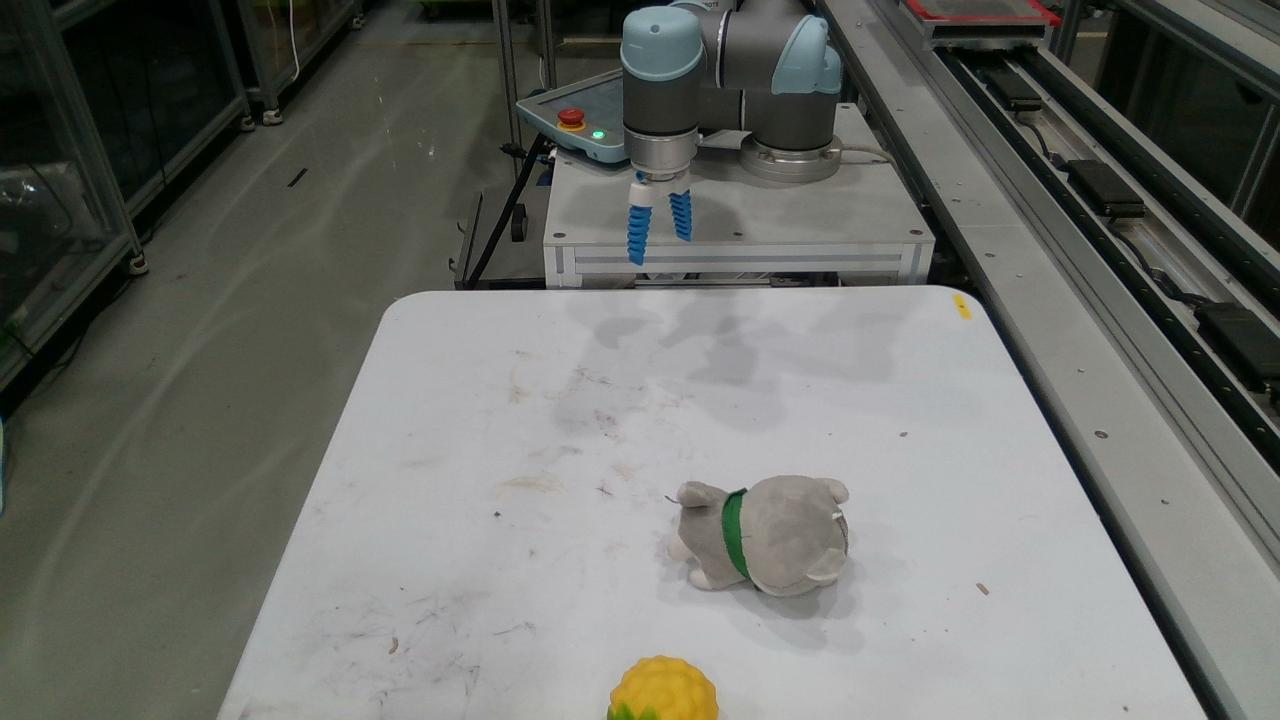UR5: (622, 0, 846, 208)
gripper_left: (626, 204, 653, 267)
gripper_right: (668, 188, 693, 243)
target: (667, 474, 850, 598), (606, 654, 720, 719)
